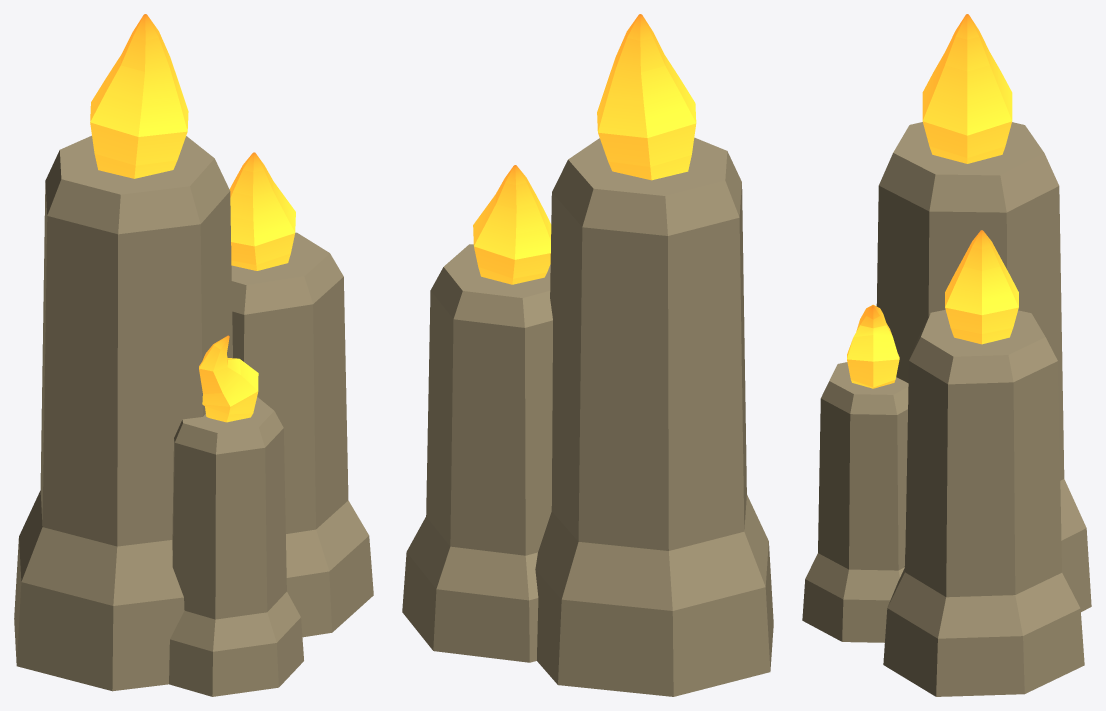
The model's file is candle_triple.glb.
3 views of the same model, side by side, from view 1: azimuth 30°, elevation 25°; view 2: azimuth 150°, elevation 25°; view 3: azimuth 270°, elevation 25° (orthographic). The views are drawn at different scales.
Visible parts, largest first — view 1: candle_triple.001; view 2: candle_triple.001; view 3: candle_triple.001.
Boxes of the visible parts, <box> form: candle_triple.001: <box>14,14,373,696</box>; candle_triple.001: <box>402,14,773,696</box>; candle_triple.001: <box>802,14,1091,696</box>.
Bounding box in the file's own units: 0.5 × 0.87 × 0.39.
